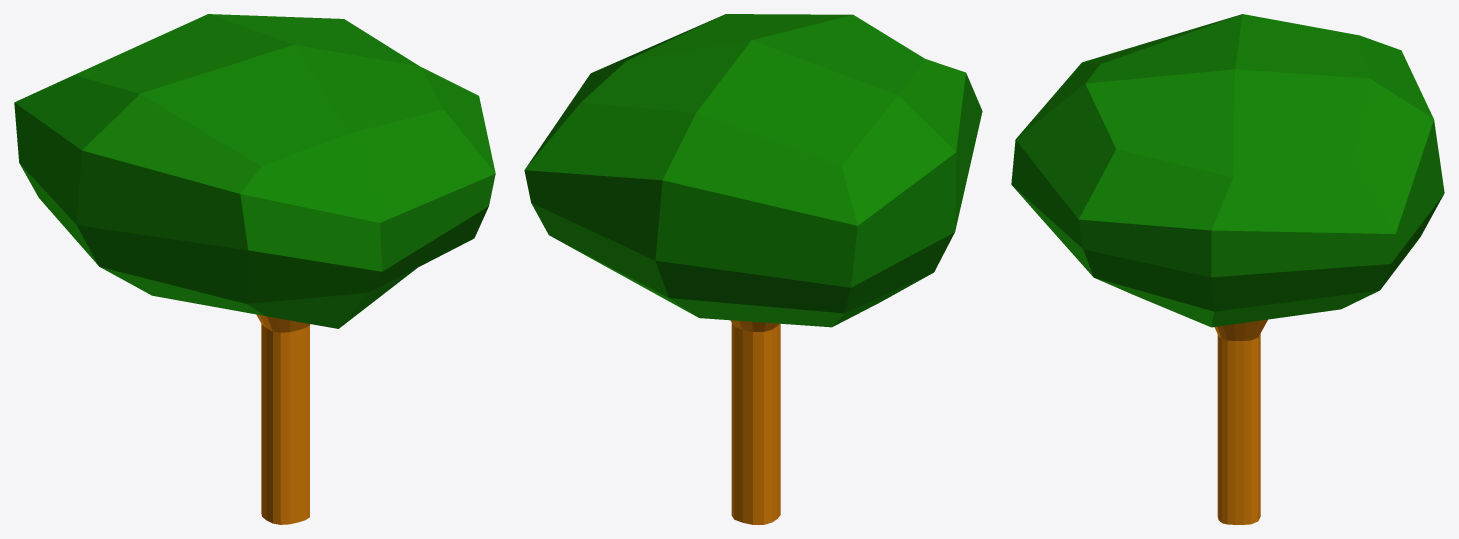
File: small tree.fbx
3 renders of one model, left to right at view 1: azimuth 30°, elevation 25°; view 2: azimuth 150°, elevation 25°; view 3: azimuth 270°, elevation 25°, orthographic. The views are drawn at different scales.
Parts seen in each view (by area): view 1: Cube, Cube.001; view 2: Cube, Cube.001; view 3: Cube, Cube.001.
Boxes of the visible parts, left/top/right/bottom form: Cube: left=14, top=14, right=495, bottom=328; Cube.001: left=256, top=314, right=310, bottom=524; Cube: left=524, top=14, right=982, bottom=327; Cube.001: left=730, top=320, right=780, bottom=524; Cube: left=1011, top=14, right=1444, bottom=327; Cube.001: left=1214, top=319, right=1267, bottom=524.
Size of the model in its own units: 279 by 324 by 283.
